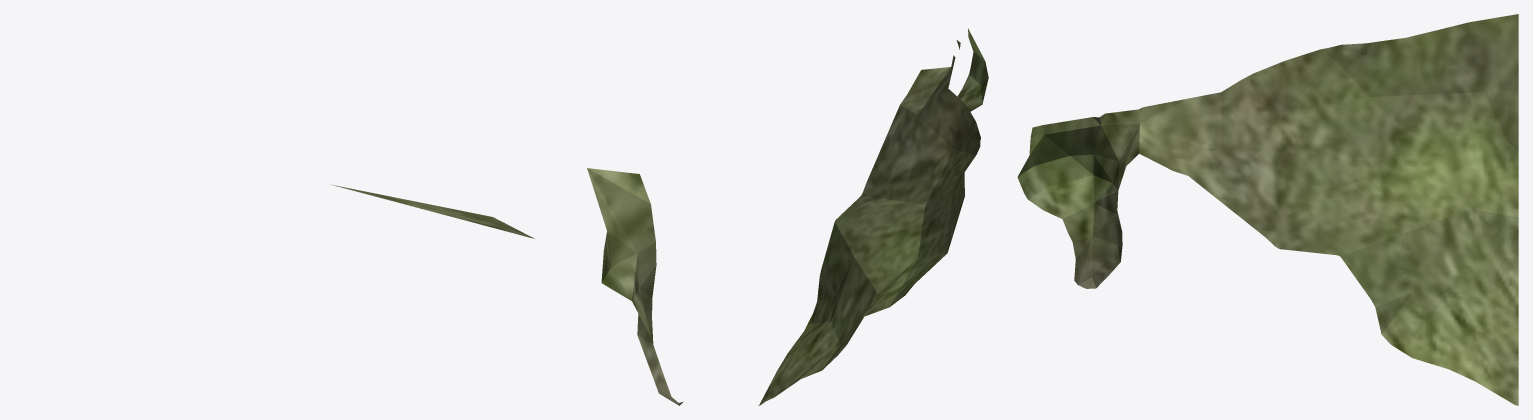
3 renders of one model, left to right at view 1: azimuth 30°, elevation 25°; view 2: azimuth 150°, elevation 25°; view 3: azimuth 270°, elevation 25°, orthographic. The views are drawn at different scales.
Size of the model in its own units: 0.8766 by 1 by 1.63.
Materials: 1 (1 with a texture image).
